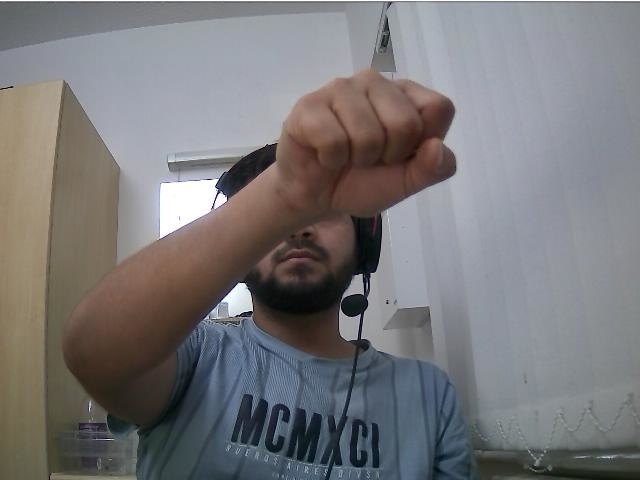hold: (274, 69, 458, 217)
